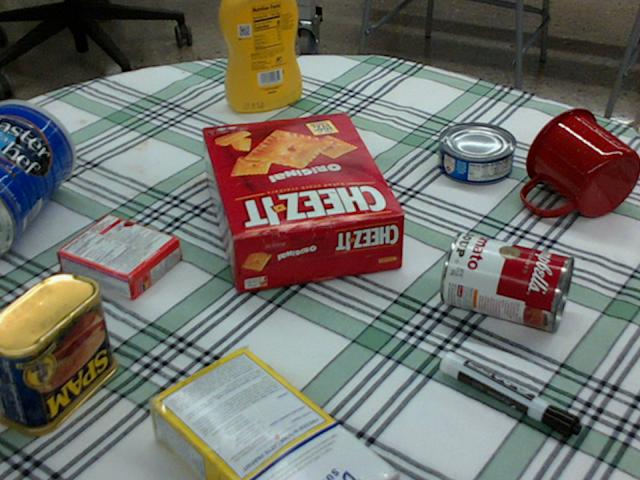cracker_box: (202, 111, 400, 290)
gelatin_box: (58, 212, 180, 300)
large_marker: (441, 351, 581, 440)
master_chef_can: (0, 100, 73, 258)
mug: (522, 108, 639, 218)
mustard_bottle: (219, 0, 301, 111)
potted_meat_can: (0, 271, 116, 433)
sugar_box: (142, 350, 396, 479)
tomato_soup_can: (439, 230, 573, 332)
tuna_fish_can: (438, 122, 516, 184)
